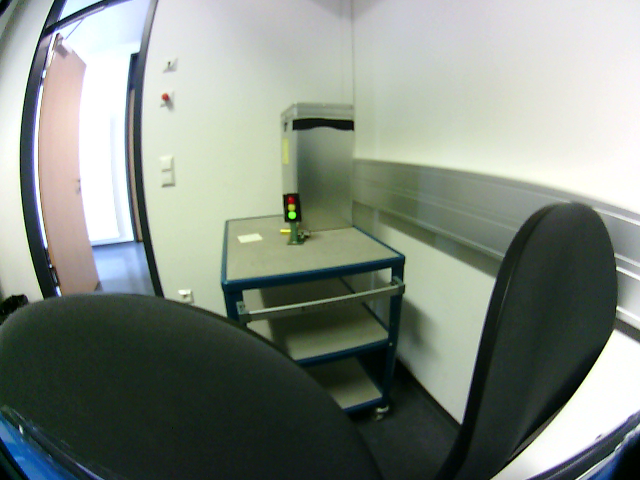green trafficlight: (285, 194, 297, 220)
